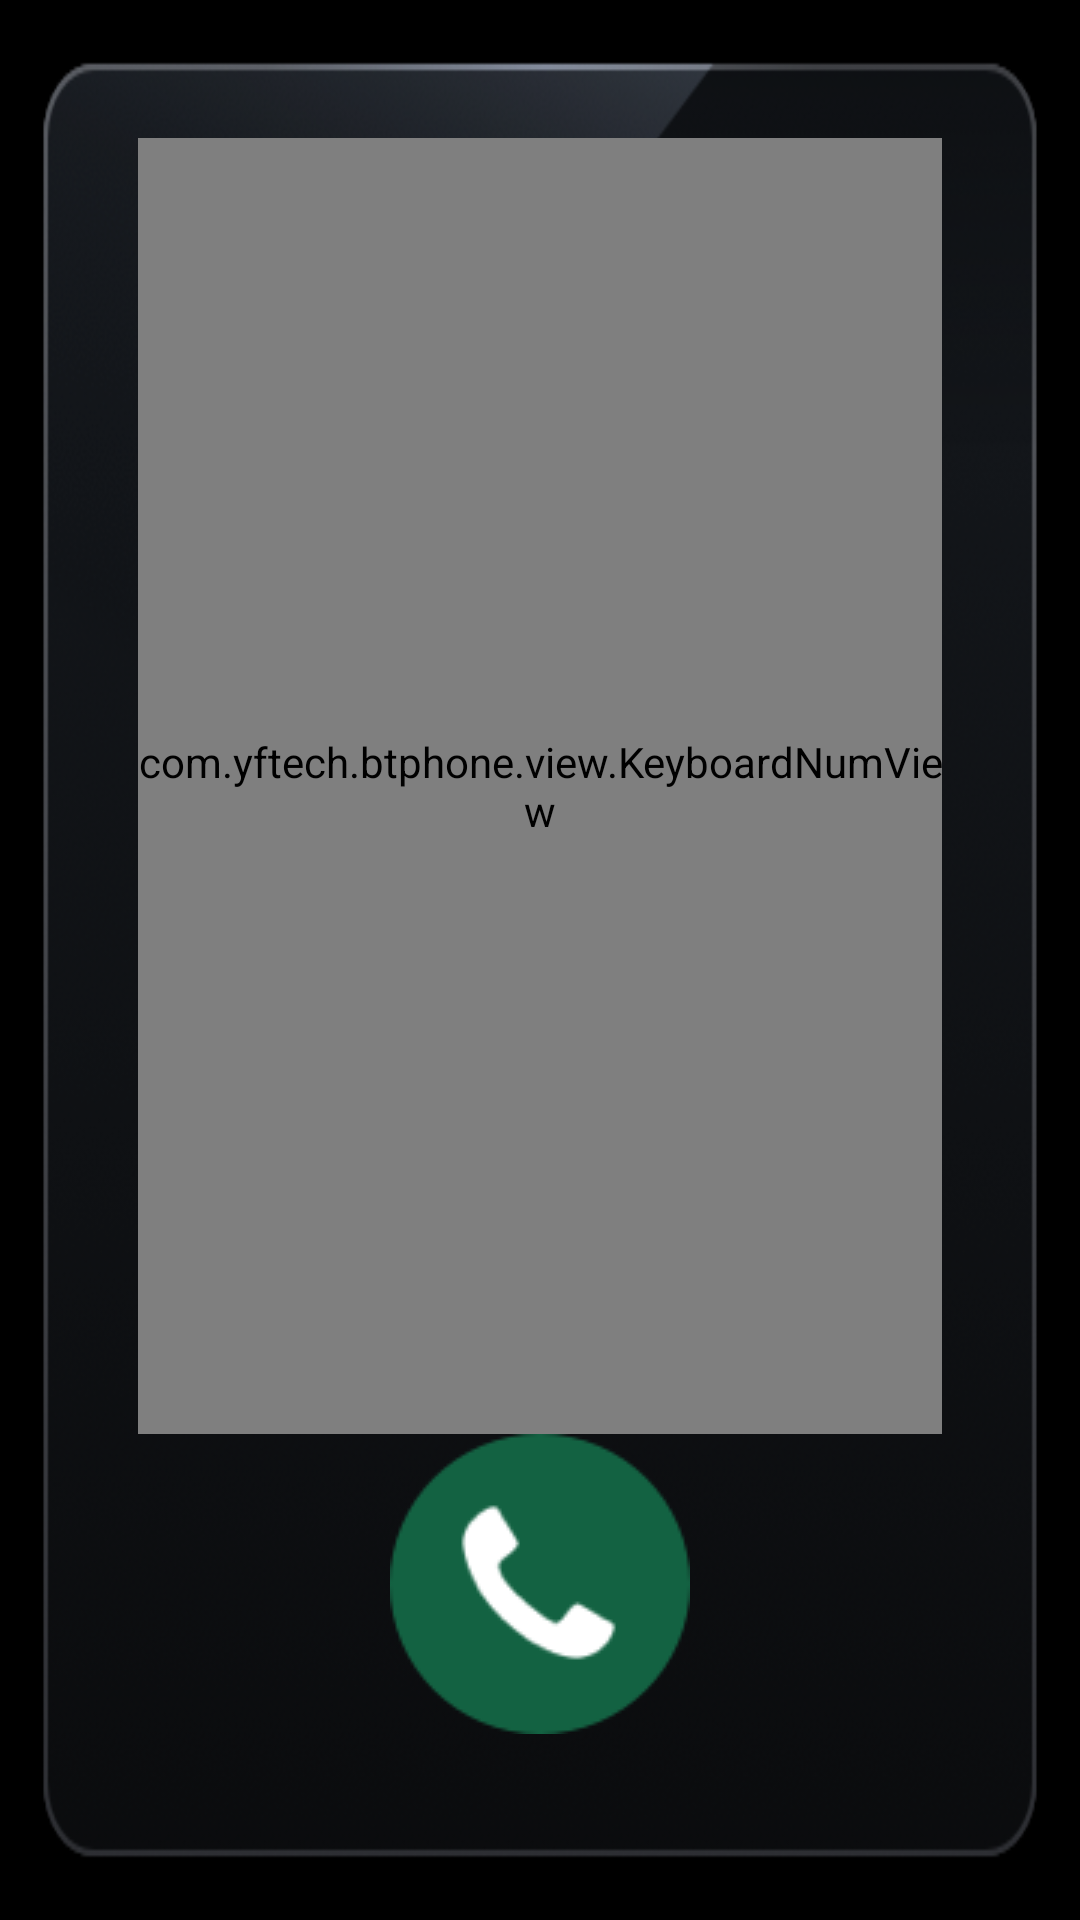

Icon click points for this 1080px x 1920px phone screenshot, format point (x, y):
btp accept nor: point (540, 1584)
